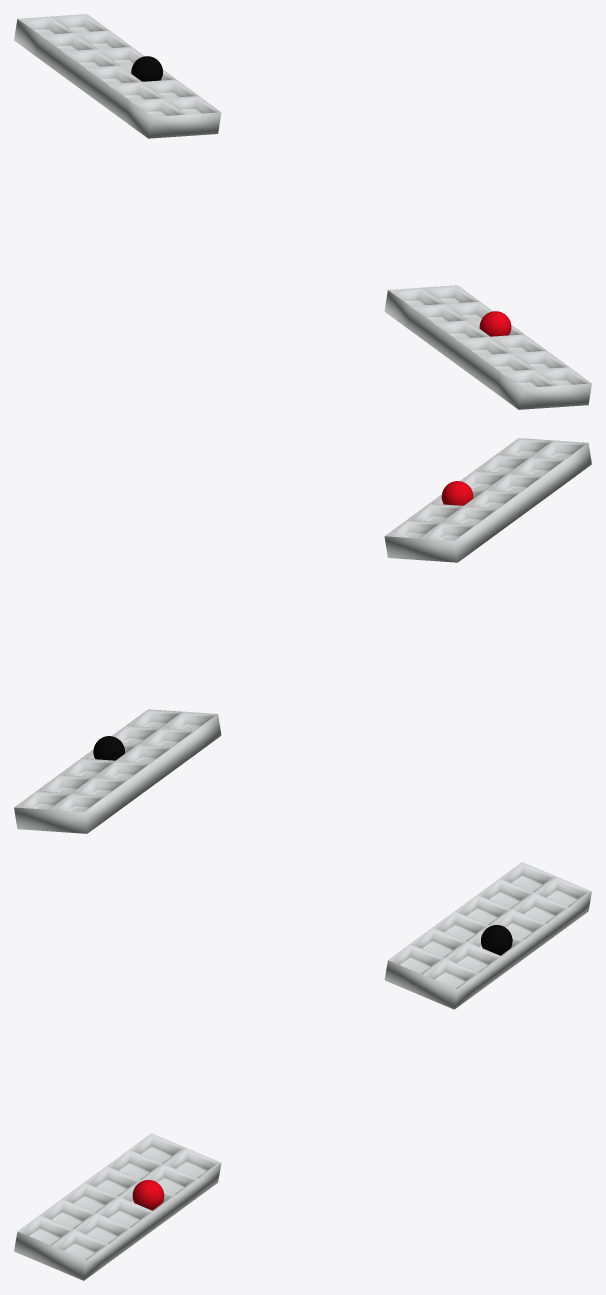
File: yoTyanBall&Tray.fbx
The picture shows the model from 3 angles, top to bottom: view 1: azimuth 30°, elevation 25°; view 2: azimuth 150°, elevation 25°; view 3: azimuth 330°, elevation 25°; orthographic projection.
Visible parts, largest first — view 1: BallTray.004, BallTray.003, YotyanBall_Red.003, YotyanBall_Black.001; view 2: BallTray.003, BallTray.004, YotyanBall_Red.003, YotyanBall_Black.001; view 3: BallTray.004, BallTray.003, YotyanBall_Black.001, YotyanBall_Red.003.
Boxes of the visible parts, box(x1,y1,x2,y2) form: BallTray.004: box(384, 285, 591, 409); BallTray.003: box(14, 14, 221, 138); YotyanBall_Red.003: box(479, 311, 511, 336); YotyanBall_Black.001: box(131, 56, 162, 81); BallTray.003: box(14, 709, 221, 833); BallTray.004: box(384, 438, 591, 562); YotyanBall_Red.003: box(441, 481, 473, 505); YotyanBall_Black.001: box(93, 736, 124, 760); BallTray.004: box(14, 1133, 221, 1280); BallTray.003: box(384, 862, 591, 1009); YotyanBall_Black.001: box(481, 925, 512, 955); YotyanBall_Red.003: box(132, 1180, 164, 1210).
Size of the model in its own units: 18.9 by 9.46 by 226.
